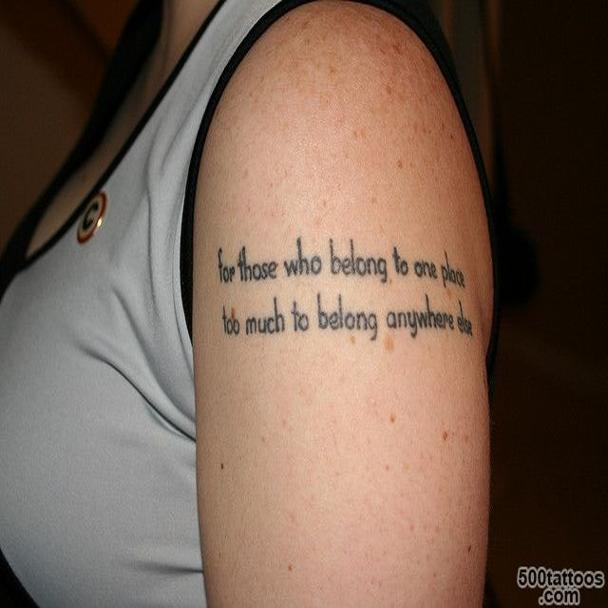tattoos: (217, 235, 475, 341)
